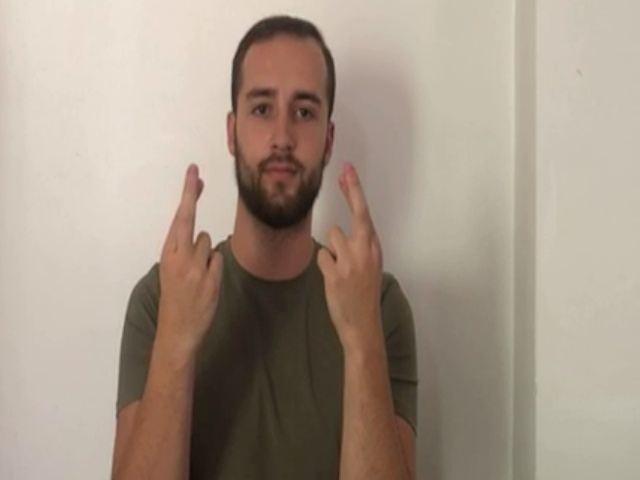Nadevanja: (149, 159, 393, 354)
